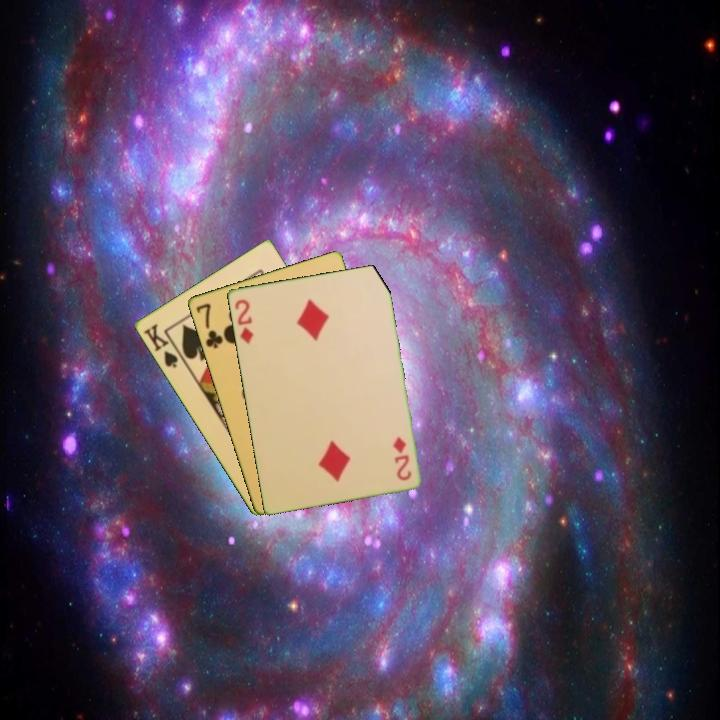2d: (231, 296, 256, 347), (389, 433, 414, 483)
7c: (192, 300, 225, 351)
Ks: (140, 320, 186, 371)
